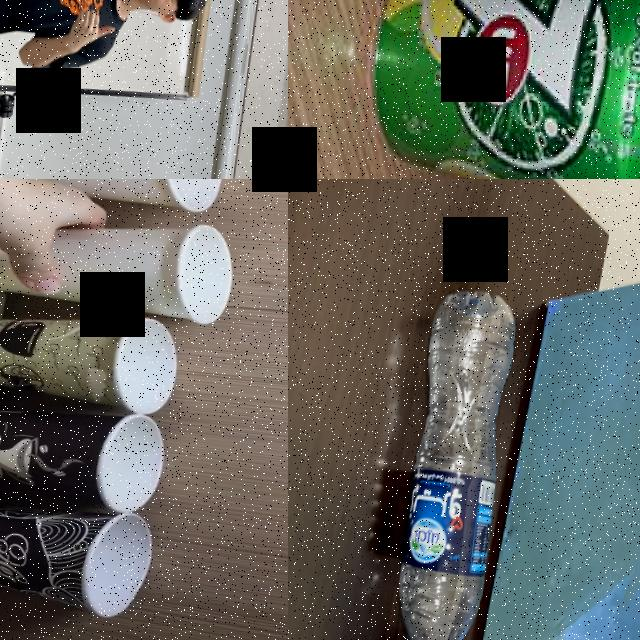bottle: (376, 267, 527, 640)
can: (349, 0, 640, 179)
cup: (0, 194, 240, 327), (0, 301, 182, 425), (0, 394, 169, 520), (0, 493, 158, 626), (0, 179, 225, 216)
